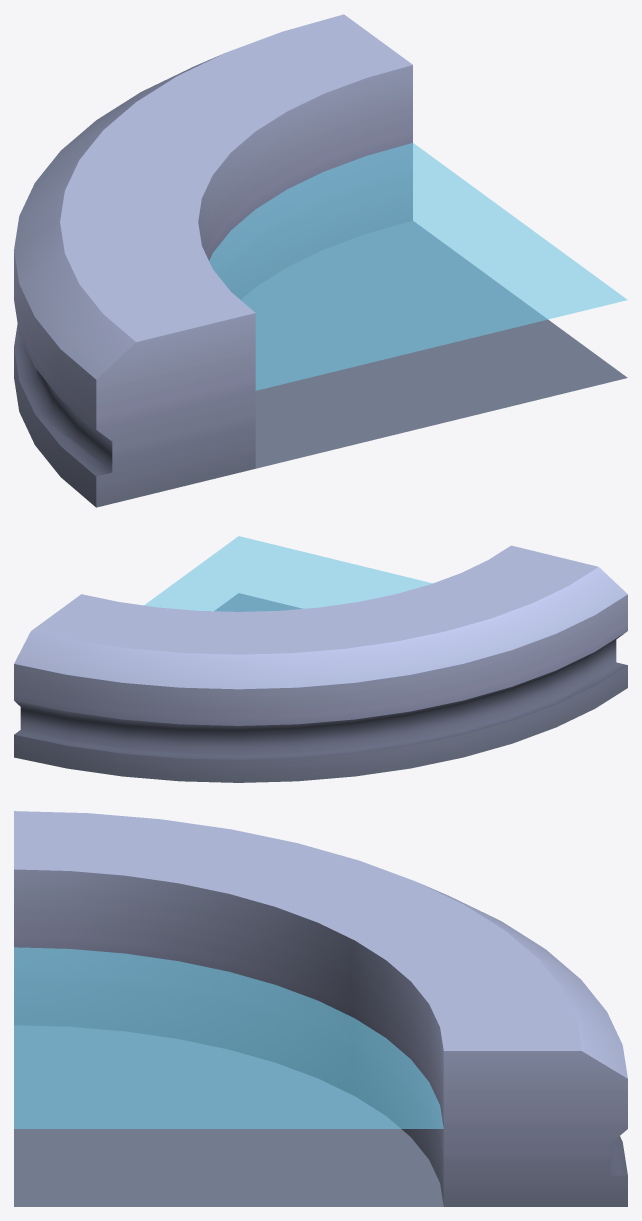
File: fountain-curved.glb
The picture shows the model from 3 angles, top to bottom: view 1: azimuth 30°, elevation 25°; view 2: azimuth 150°, elevation 25°; view 3: azimuth 270°, elevation 25°; orthographic projection. The views are drawn at different scales.
Parts seen in each view (by area): view 1: fountain-curved, (%ignore); view 2: fountain-curved, (%ignore); view 3: fountain-curved, (%ignore).
Part boxes in pixels (bbox=[...]): fountain-curved: bbox=[14, 14, 627, 507]; (%ignore): bbox=[209, 143, 627, 390]; fountain-curved: bbox=[14, 545, 627, 782]; (%ignore): bbox=[144, 536, 432, 611]; fountain-curved: bbox=[14, 811, 627, 1206]; (%ignore): bbox=[14, 947, 443, 1128].
Size of the model in its own units: 1 by 0.2799 by 1.
Materials: 2 (1 with a texture image).
